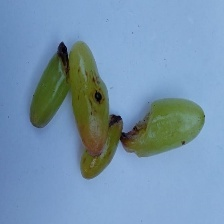grapes: (49, 48, 206, 191)
